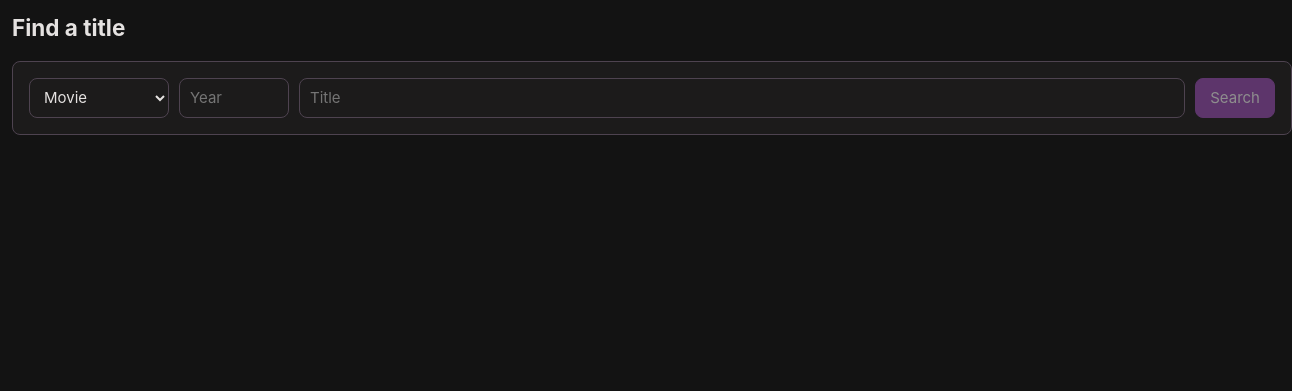
Test: SearchView › explains a 501 and offers the manual form for games
The image size is (1292, 391).
Select "Game" in the dropdown named "Type": [99, 98] box [29,78,169,118]
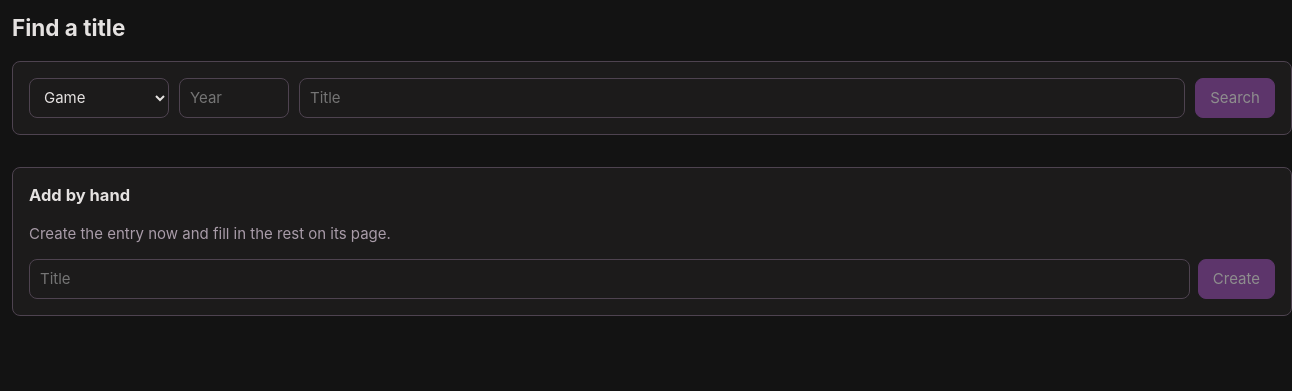
In the search field with placeholder "Title": [742, 98] box [299,78,1185,118], type "Hades"
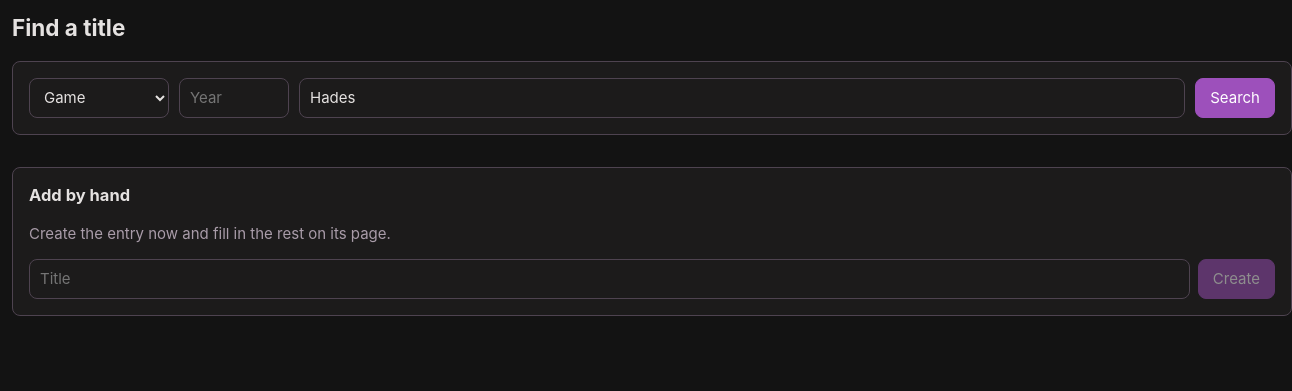
Submit the form "Search", box [12,61,1291,135]
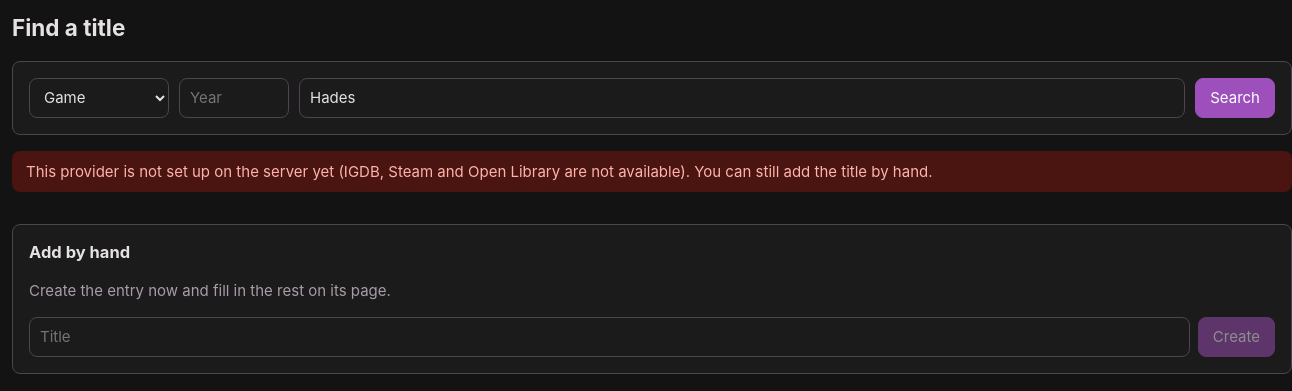
Result: the text "Add by hand" is shown at [29,242,130,262]
Result: the message shows "not set up" at [26,162,932,181]
